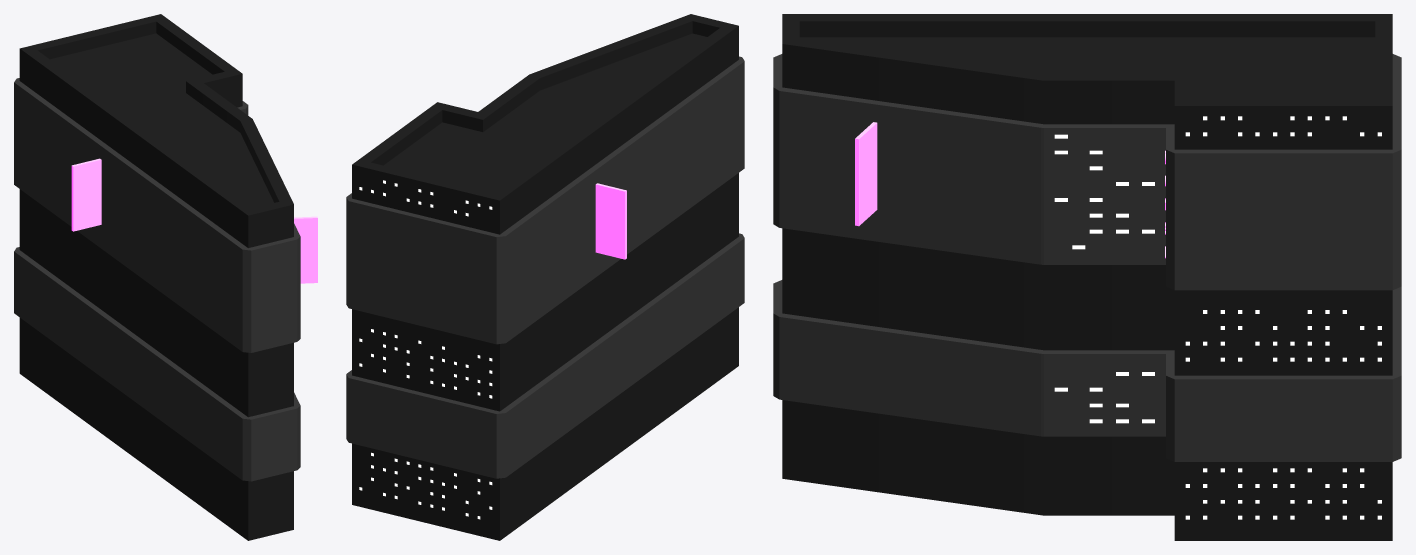
File: hotel.gltf
3 views of the same model, side by side, from view 1: azimuth 30°, elevation 25°; view 2: azimuth 150°, elevation 25°; view 3: azimuth 270°, elevation 25° (orthographic). The views are drawn at different scales.
Visible parts, largest first — view 1: Cube, Cube.002, Cube.001; view 2: Cube, Cube.002, Plane.001; view 3: Cube, Plane.001, Cube.001.
Boxes of the visible parts, box(x1,y1,x2,y2) form: Cube: box(14, 14, 300, 540); Cube.002: box(71, 158, 101, 231); Cube.001: box(294, 216, 317, 283); Cube: box(346, 14, 744, 540); Cube.002: box(595, 183, 626, 259); Plane.001: box(359, 180, 492, 519); Cube: box(773, 14, 1401, 540); Plane.001: box(1054, 116, 1381, 519); Cube.001: box(855, 122, 877, 226).
Size of the model in its own units: 64.01 by 110 by 144.
